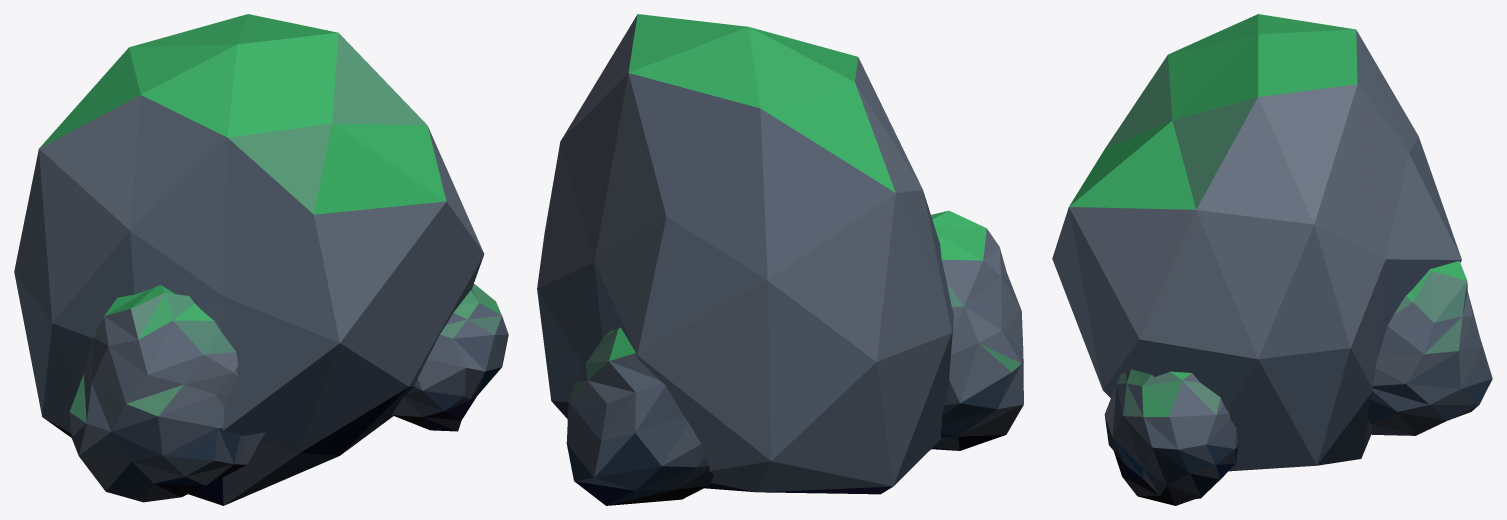
Rendered from batu_boulder_granite_932070.glb.
3 views of the same model, side by side, from view 1: azimuth 30°, elevation 25°; view 2: azimuth 150°, elevation 25°; view 3: azimuth 270°, elevation 25° (orthographic). The views are drawn at different scales.
Visible parts, largest first — view 1: Batu_Jeram_Sungai; view 2: Batu_Jeram_Sungai; view 3: Batu_Jeram_Sungai.
Boxes of the visible parts, box(x1,y1,x2,y2) form: Batu_Jeram_Sungai: box(14, 14, 508, 505); Batu_Jeram_Sungai: box(537, 14, 1023, 505); Batu_Jeram_Sungai: box(1052, 14, 1492, 505).
Size of the model in its own units: 3.62 by 3.22 by 3.23.
